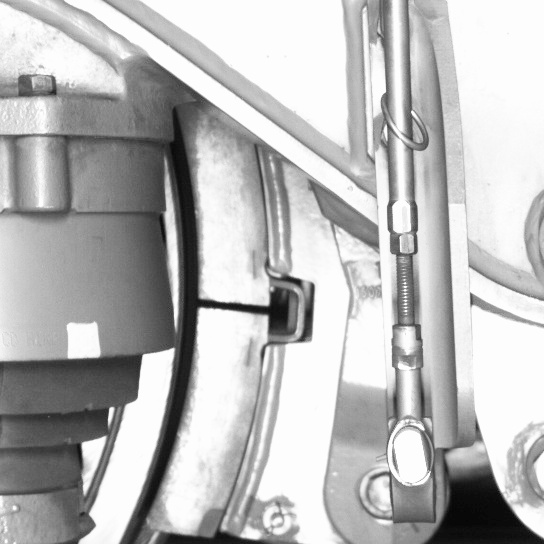KnifeSwitch: (120, 139, 286, 542)
